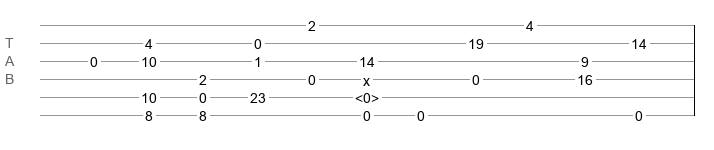0: (90, 54, 98, 64), (199, 90, 207, 100), (254, 36, 262, 46), (308, 72, 316, 82), (363, 108, 371, 118), (417, 108, 425, 118), (472, 72, 480, 82), (635, 108, 643, 118)
1: (254, 54, 262, 64)
10: (141, 54, 157, 64), (141, 90, 157, 100)
14: (359, 54, 375, 64), (631, 36, 647, 46)
16: (577, 72, 593, 82)
19: (468, 36, 484, 46)
2: (199, 72, 207, 82), (308, 18, 316, 28)
23: (250, 90, 266, 100)
4: (145, 36, 153, 46), (526, 18, 534, 28)
8: (145, 108, 153, 118), (199, 108, 207, 118)
9: (581, 54, 589, 64)
harmonic: (355, 90, 379, 100)
x: (363, 73, 370, 81)
